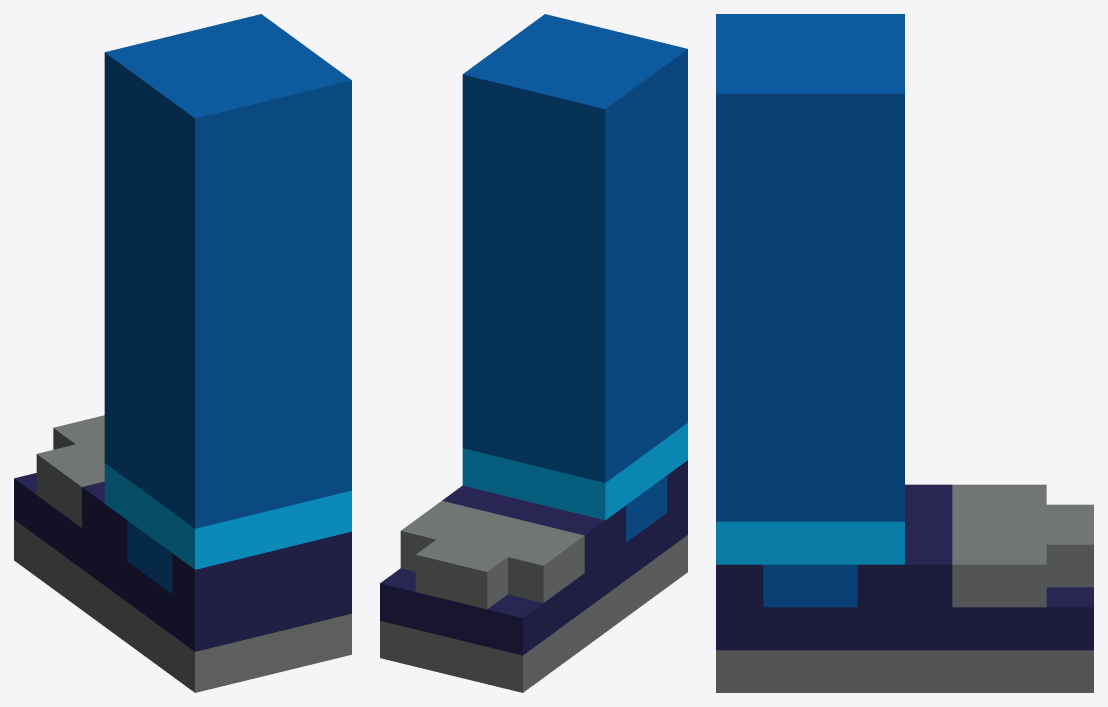
The model's file is char-4.obj.
3 views of the same model, side by side, from view 1: azimuth 30°, elevation 25°; view 2: azimuth 150°, elevation 25°; view 3: azimuth 270°, elevation 25° (orthographic). The views are drawn at different scales.
Size of the model in its own units: 0.4 by 1.4 by 0.8.
Materials: 1 (1 with a texture image).
